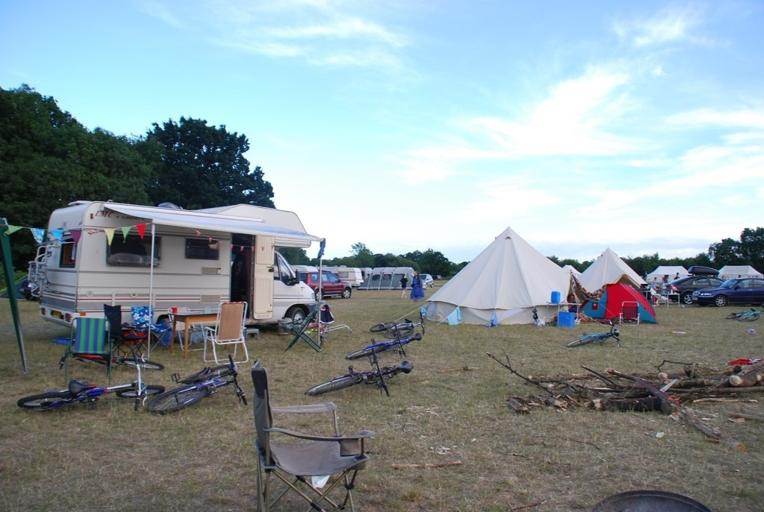non-vehicle: (16, 364, 165, 411), (146, 354, 247, 414), (307, 345, 412, 396), (346, 310, 424, 359), (56, 337, 162, 371), (567, 319, 619, 347), (727, 306, 759, 321)
